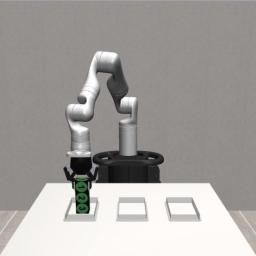cube1: (76, 177, 90, 193)
cube2: (76, 192, 90, 202)
cube3: (76, 203, 90, 214)
